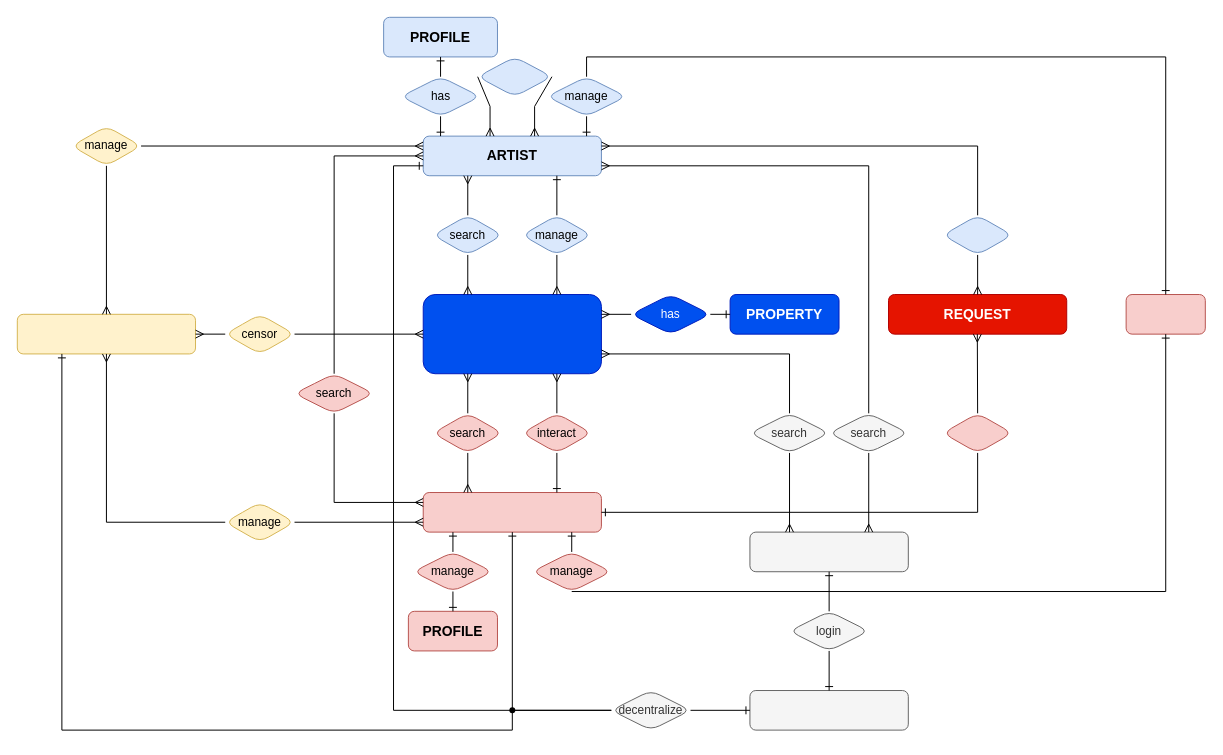
The diagram is 1223 pixels wide and 755 high, and some of its shapes have lost their labels. The shapes that lost their labels are listed below. From the top down, each one's centre as x and y in pixels, then its label:
[514,76]: browse
[977,234]: commit
[106,333]: MODERATOR
[511,334]: ARTWORK
[1165,314]: CART
[977,432]: pull
[511,512]: AUDIENCE
[828,551]: GUESS
[828,710]: AUTHORIZED USER
